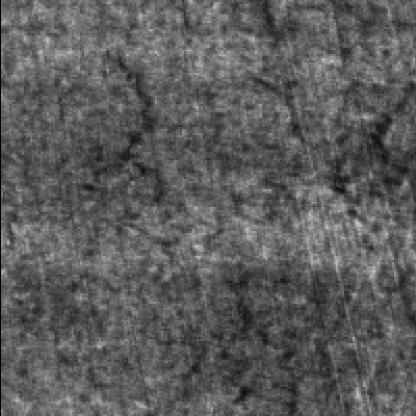crazing: (56, 25, 178, 268), (177, 275, 383, 416), (278, 21, 410, 239)
